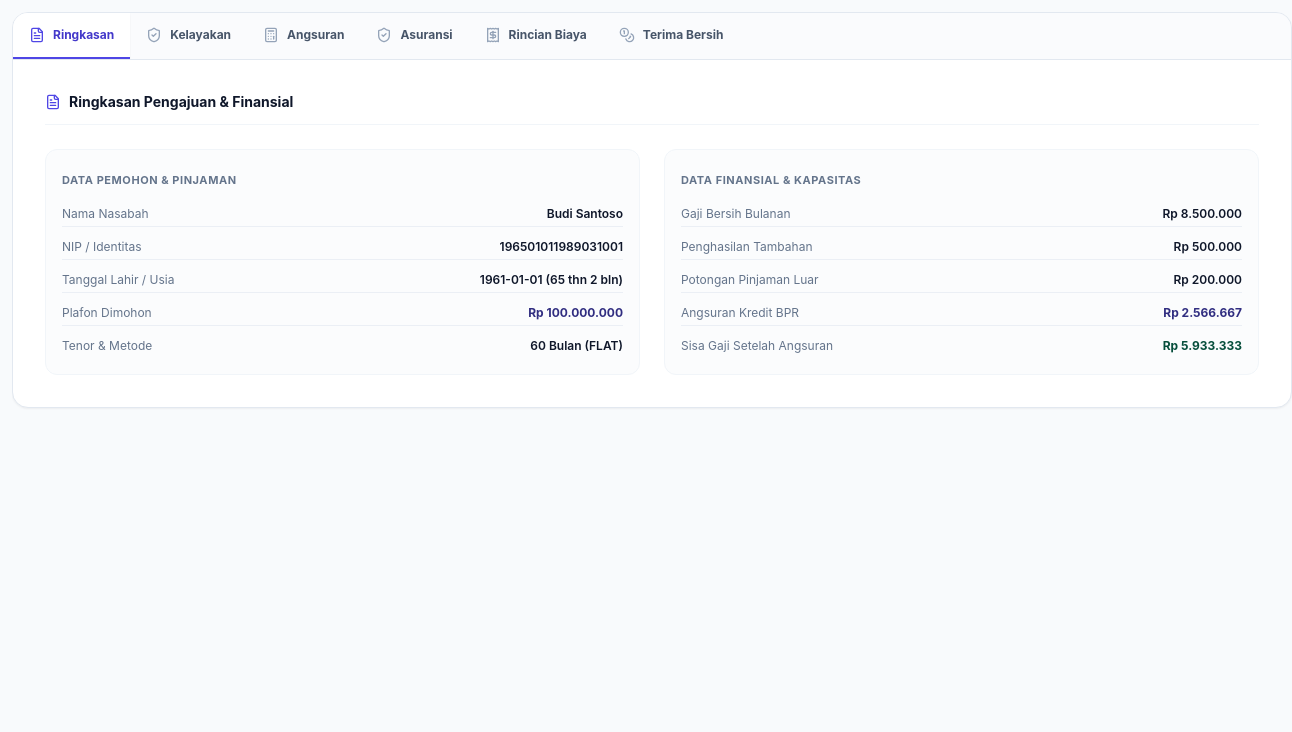
Test: TASK-049: Result Detail Sections & Tab Breakdown Tests › should switch to Rincian Biaya tab and display fee components
Click the button with test id "tab-biaya" at (536, 36), box [469,13,603,59]
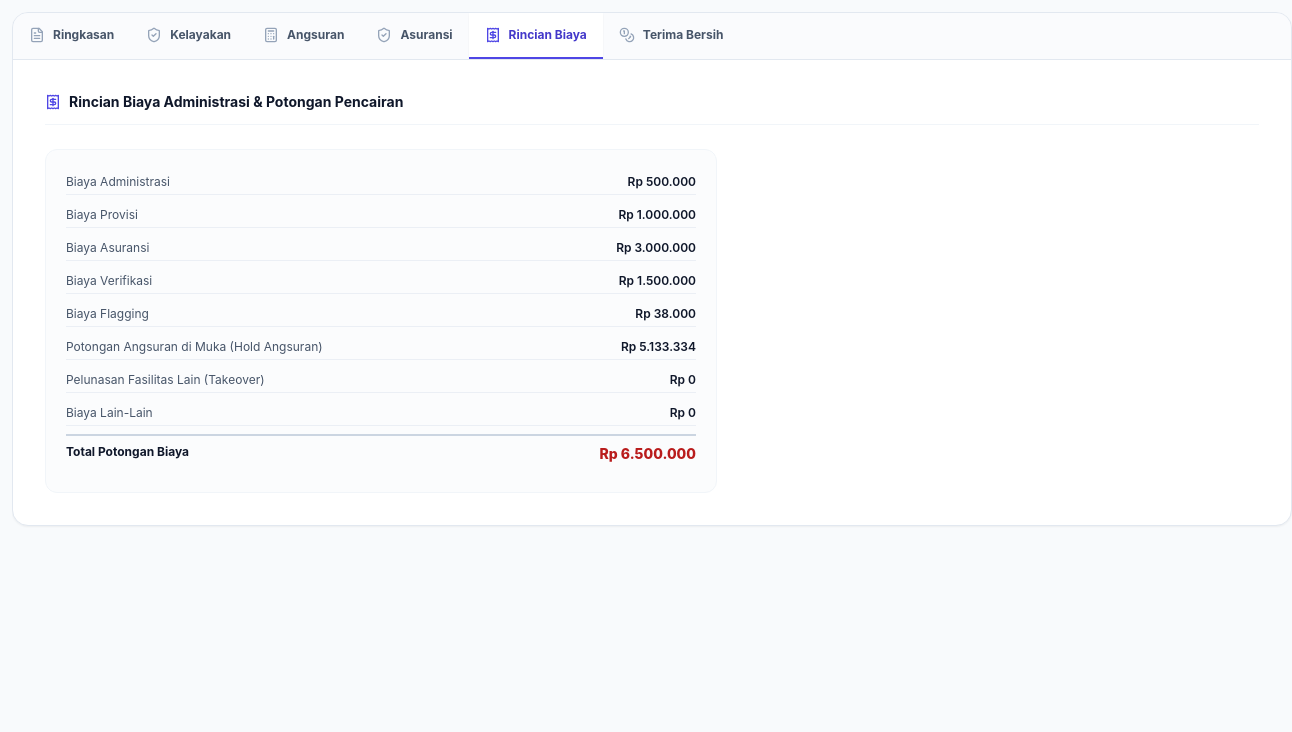
Result: the element with test id "tab-content-biaya" is shown at [45,92,1259,493]
Result: the text "Biaya Administrasi" is shown at [66,174,170,190]
Result: the text "Biaya Provisi" is shown at [66,207,138,223]
